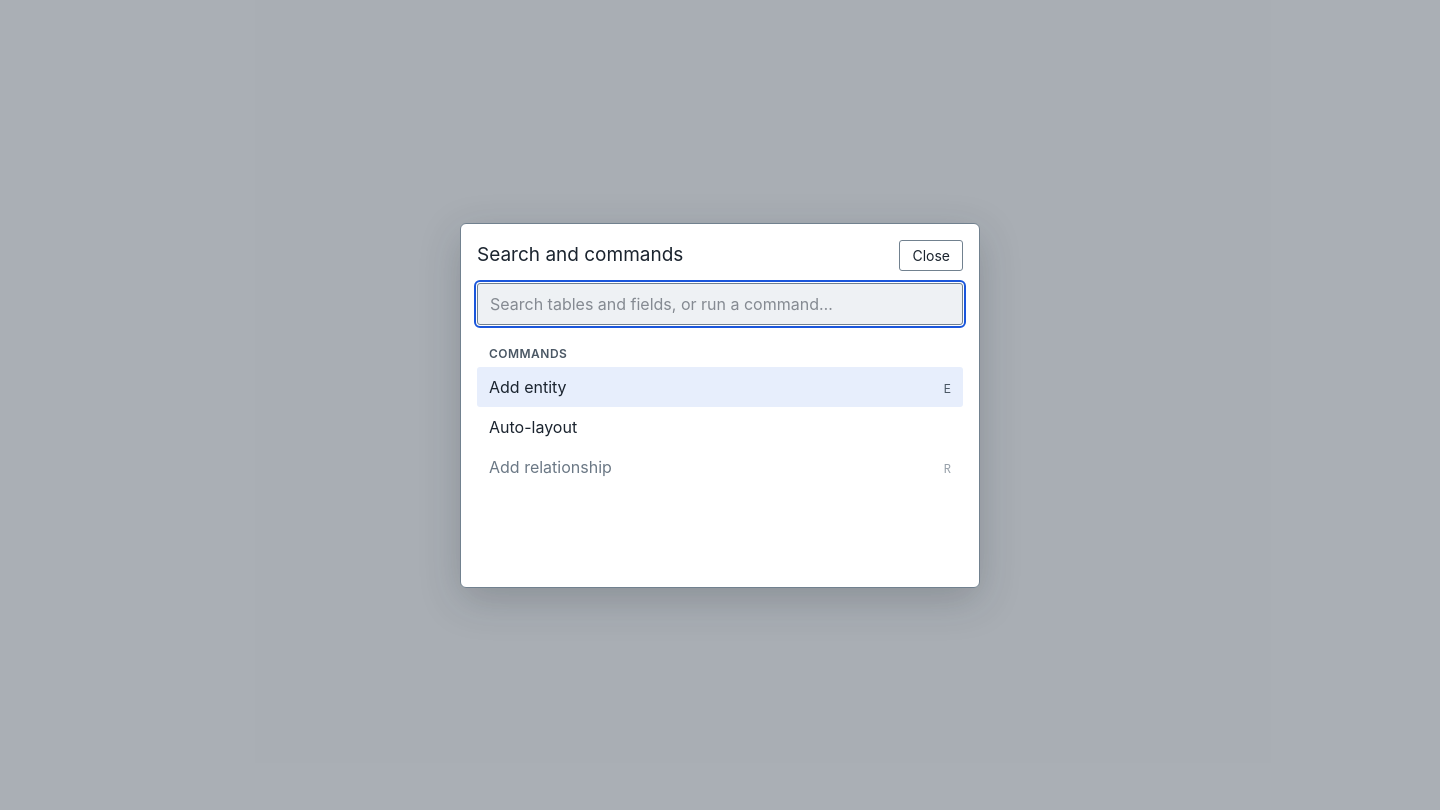
Test case: CommandPalette › says which entity a field belongs to — FR-2.6 asks for this by name
In the dropdown: point(720, 304) [477,282,963,324], type "email"
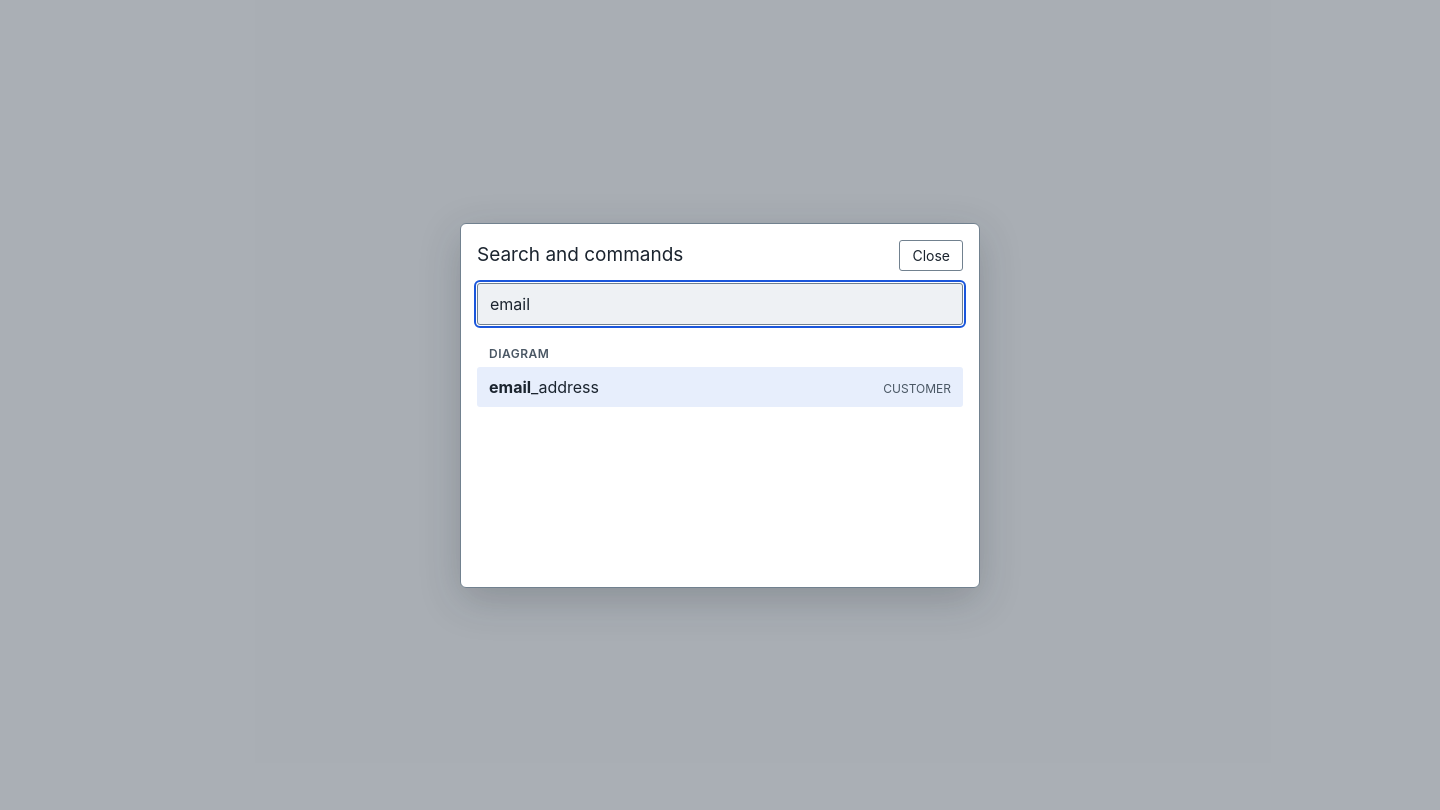
Result: the text "CUSTOMER" is shown at [883,380,951,398]
